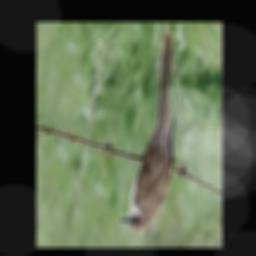Cuckoo: (119, 29, 177, 233)
